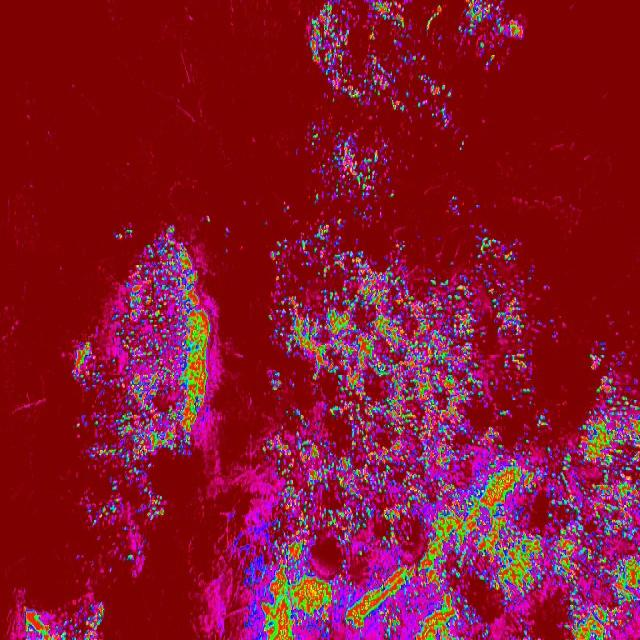fire: (262, 232, 540, 640), (119, 220, 218, 450), (72, 328, 163, 572), (582, 345, 640, 640), (308, 0, 418, 95), (540, 424, 582, 640), (305, 117, 397, 207), (221, 507, 263, 638), (456, 0, 526, 69), (15, 592, 102, 640)
